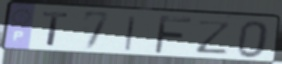0: (236, 19, 272, 60)
7: (79, 11, 111, 54)
F: (152, 14, 194, 56)
I: (123, 14, 139, 53)
T: (41, 10, 71, 49)
Z: (195, 19, 235, 56)
